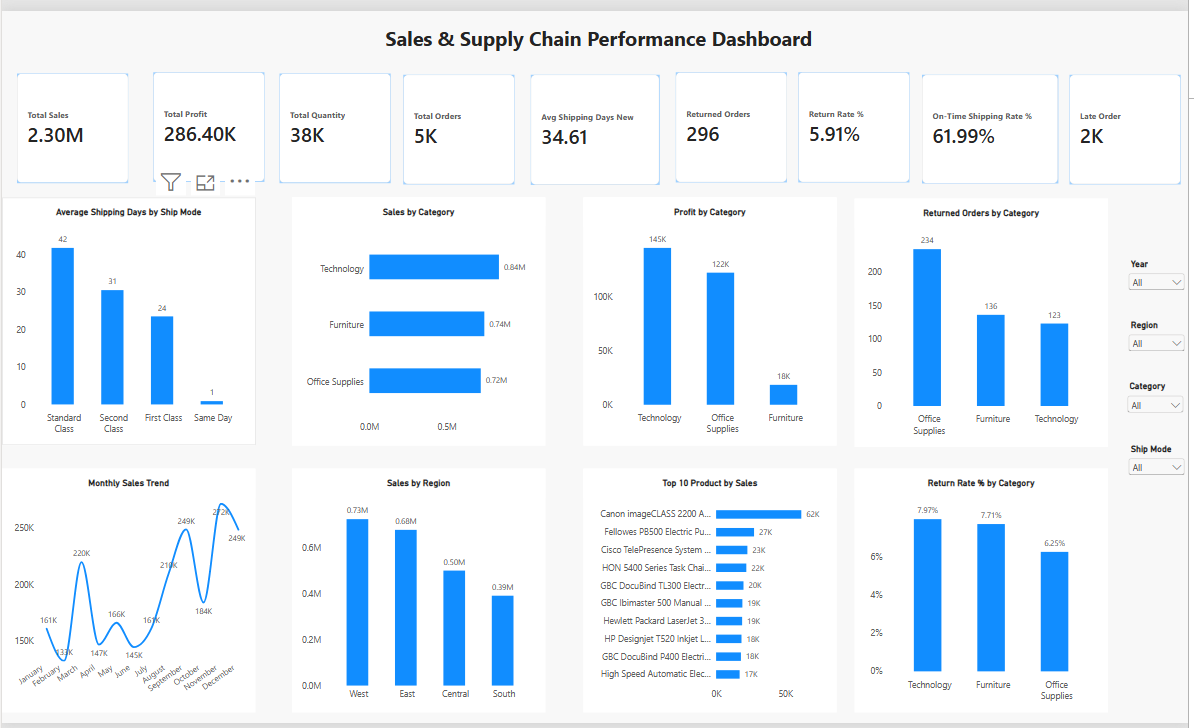

The page's visual inventory and layout, read from the dashboard file:
{"tool":"powerbi","page":{"name":"Page 1","canvas":[1920,1154],"ordinal":0},"visuals":[{"type":"cardVisual","fields":{"Data":["Calendar Table.Total Sales"]},"box":[24.3,101.2,180,177.5],"z":0},{"type":"cardVisual","fields":{"Data":["Calendar Table.Total Profit"]},"box":[244.9,99.2,180,177.5],"z":1000},{"type":"cardVisual","fields":{"Data":["Calendar Table.Total Quantity"]},"box":[449.2,101.2,180,177.5],"z":2000},{"type":"cardVisual","fields":{"Data":["Calendar Table.Total Orders"]},"box":[649.6,103.2,180,177.5],"z":3000},{"type":"lineChart","title":"Monthly Sales Trend ","fields":{"Category":["Calendar Table.Month & Year.Variation.Date Hierarchy.Month"],"Y":["Calendar Table.Total Sales"]},"box":[0,740,410,395],"z":4000},{"type":"clusteredBarChart","title":"Sales by Category","fields":{"Category":["Retails Order Full Dataset.Category"],"Y":["Calendar Table.Total Sales"]},"box":[470,302.5,410,402.5],"z":5000},{"type":"clusteredColumnChart","title":" Sales by Region ","fields":{"Category":["Retails Order Full Dataset.Region"],"Y":["Calendar Table.Total Sales"]},"box":[470,740,410,395],"z":6000},{"type":"clusteredBarChart","title":"Top 10 Product by Sales ","fields":{"Category":["Retails Order Full Dataset.Product Name"],"Y":["Calendar Table.Total Sales"]},"box":[940,740,410,395],"z":7000},{"type":"clusteredColumnChart","title":"Profit by Category ","fields":{"Category":["Retails Order Full Dataset.Category"],"Y":["Calendar Table.Total Profit"]},"box":[940,302,410,402.5],"z":8000},{"type":"cardVisual","fields":{"Data":["Retails Order Full Dataset.Avg Shipping Days New"]},"box":[856,103.2,208.4,178.1],"z":9000},{"type":"clusteredColumnChart","title":"Average Shipping Days by Ship Mode","fields":{"Category":["Retails Order Full Dataset.Ship Mode"],"Y":["Retails Order Full Dataset.Avg Shipping Days New"]},"box":[0,302,410,402],"z":10000},{"type":"cardVisual","fields":{"Data":["Calendar Table.Returned Orders"]},"box":[1090.7,99.2,180,178.1],"z":11000},{"type":"cardVisual","fields":{"Data":["Calendar Table.Return Rate %"]},"box":[1289,99.2,180,178.1],"z":12000},{"type":"clusteredColumnChart","title":"Returned Orders by Category","fields":{"Category":["Retails Order Full Dataset.Category"],"Y":["Calendar Table.Returned Orders"]},"box":[1380,303,410,402.5],"z":13000},{"type":"clusteredColumnChart","title":"Return Rate %  by Category","fields":{"Category":["Retails Order Full Dataset.Category"],"Y":["Calendar Table.Return Rate %"]},"box":[1380,740,410,395],"z":14000},{"type":"cardVisual","fields":{"Data":["Calendar Table.On-Time Shipping Rate %"]},"box":[1489.4,103.2,220.6,176.1],"z":15000},{"type":"cardVisual","fields":{"Data":["Calendar Table.Late Order"]},"box":[1728.2,103.2,180,177.5],"z":16000},{"type":"slicer","fields":{"Values":["Calendar Table.Year"]},"box":[1820,400,100,50],"z":17000},{"type":"slicer","fields":{"Values":["Retails Order Full Dataset.Region"]},"box":[1820,500,100,50],"z":18000},{"type":"slicer","fields":{"Values":["Retails Order Full Dataset.Category"]},"box":[1817.2,600,100,50],"z":19000},{"type":"slicer","fields":{"Values":["Retails Order Full Dataset.Ship Mode"]},"box":[1820,700,100,50],"z":20000},{"type":"textbox","box":[100,22.5,1742.5,57.5],"z":21000}]}

Visuals, with their boxes in screenshot pixels (x1, y1, x2, y2), scaled from the page's 1920x1154 canvas onto the 1194x728 screenshot:
cardVisual - Calendar Table.Total Sales: pyautogui.locateOnScreen(15, 64, 127, 176)
cardVisual - Calendar Table.Total Profit: pyautogui.locateOnScreen(152, 63, 264, 175)
cardVisual - Calendar Table.Total Quantity: pyautogui.locateOnScreen(279, 64, 391, 176)
cardVisual - Calendar Table.Total Orders: pyautogui.locateOnScreen(404, 65, 516, 177)
"Monthly Sales Trend " lineChart: pyautogui.locateOnScreen(0, 467, 255, 716)
"Sales by Category" clusteredBarChart: pyautogui.locateOnScreen(292, 191, 547, 445)
" Sales by Region " clusteredColumnChart: pyautogui.locateOnScreen(292, 467, 547, 716)
"Top 10 Product by Sales " clusteredBarChart: pyautogui.locateOnScreen(585, 467, 840, 716)
"Profit by Category " clusteredColumnChart: pyautogui.locateOnScreen(585, 191, 840, 444)
cardVisual - Retails Order Full Dataset.Avg Shipping Days New: pyautogui.locateOnScreen(532, 65, 662, 177)
"Average Shipping Days by Ship Mode" clusteredColumnChart: pyautogui.locateOnScreen(0, 191, 255, 444)
cardVisual - Calendar Table.Returned Orders: pyautogui.locateOnScreen(678, 63, 790, 175)
cardVisual - Calendar Table.Return Rate %: pyautogui.locateOnScreen(802, 63, 914, 175)
"Returned Orders by Category" clusteredColumnChart: pyautogui.locateOnScreen(858, 191, 1113, 445)
"Return Rate %  by Category" clusteredColumnChart: pyautogui.locateOnScreen(858, 467, 1113, 716)
cardVisual - Calendar Table.On-Time Shipping Rate %: pyautogui.locateOnScreen(926, 65, 1063, 176)
cardVisual - Calendar Table.Late Order: pyautogui.locateOnScreen(1075, 65, 1187, 177)
slicer - Calendar Table.Year: pyautogui.locateOnScreen(1132, 252, 1193, 284)
slicer - Retails Order Full Dataset.Region: pyautogui.locateOnScreen(1132, 315, 1193, 347)
slicer - Retails Order Full Dataset.Category: pyautogui.locateOnScreen(1130, 379, 1192, 410)
slicer - Retails Order Full Dataset.Ship Mode: pyautogui.locateOnScreen(1132, 442, 1193, 473)
textbox: pyautogui.locateOnScreen(62, 14, 1146, 50)
